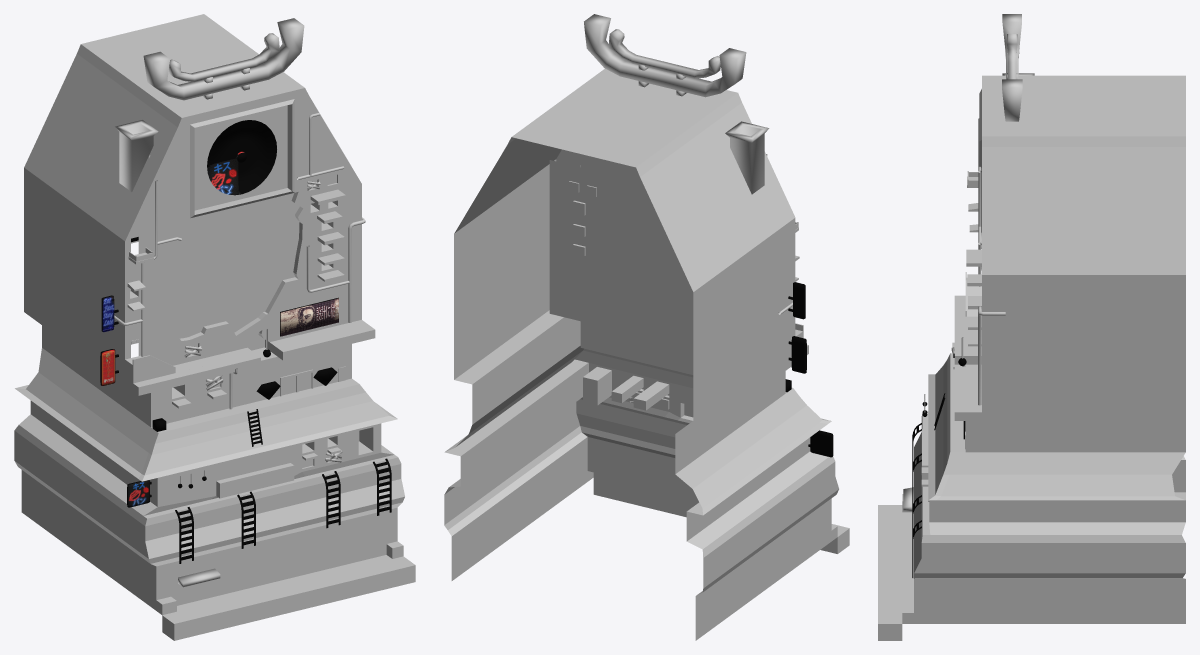
File: TowerNathan6.fbx
The picture shows the model from 3 angles, left to right: view 1: azimuth 30°, elevation 25°; view 2: azimuth 150°, elevation 25°; view 3: azimuth 270°, elevation 25°; orthographic projection.
Visible parts, largest first — view 1: polySurface53, polySurface52, polySurface13, Mesh_polySurface31_001, polySurface42, polySurface31, polySurface33, polySurface36, polySurface32; view 2: polySurface53, polySurface52; view 3: polySurface53, Mesh_polySurface31_001.
Boxes of the visible parts, left/top/right/bottom form: polySurface53: left=14, top=14, right=415, bottom=640; polySurface52: left=149, top=155, right=299, bottom=350; polySurface13: left=207, top=120, right=276, bottom=195; Mesh_polySurface31_001: left=114, top=112, right=365, bottom=484; polySurface42: left=280, top=297, right=338, bottom=336; polySurface31: left=322, top=471, right=340, bottom=528; polySurface33: left=373, top=458, right=391, bottom=515; polySurface36: left=237, top=491, right=255, bottom=548; polySurface32: left=175, top=507, right=193, bottom=563; polySurface53: left=444, top=14, right=849, bottom=640; polySurface52: left=549, top=154, right=693, bottom=374; polySurface53: left=878, top=14, right=1185, bottom=640; Mesh_polySurface31_001: left=924, top=118, right=1005, bottom=412.
Size of the model in its own units: 8.99 by 17.05 by 8.99.
